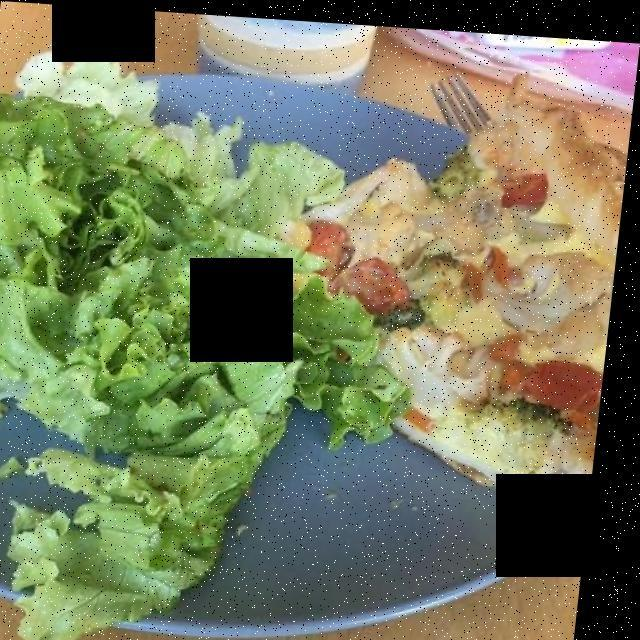salad: (0, 66, 367, 630)
vegetables-stuffed-pie: (312, 84, 620, 488)
